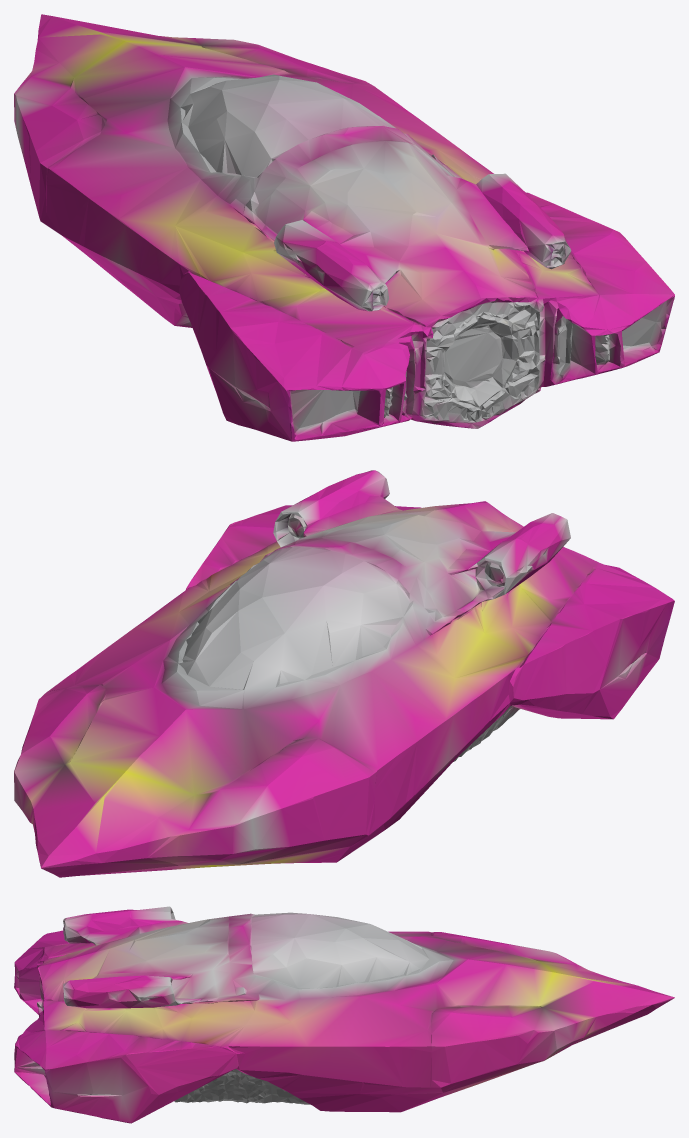
File: pixie_lo.glb
3 renders of one model, top to bottom at view 1: azimuth 30°, elevation 25°; view 2: azimuth 150°, elevation 25°; view 3: azimuth 270°, elevation 25°, orthographic. The views are drawn at different scales.
Visible parts, largest first — view 1: geometry_0; view 2: geometry_0; view 3: geometry_0.
Part boxes in pixels (<box>): geometry_0: <box>14,14,674,441</box>; geometry_0: <box>14,470,674,877</box>; geometry_0: <box>14,906,674,1123</box>.
Bounding box in the file's own units: 3.72 × 1.97 × 7.6.
